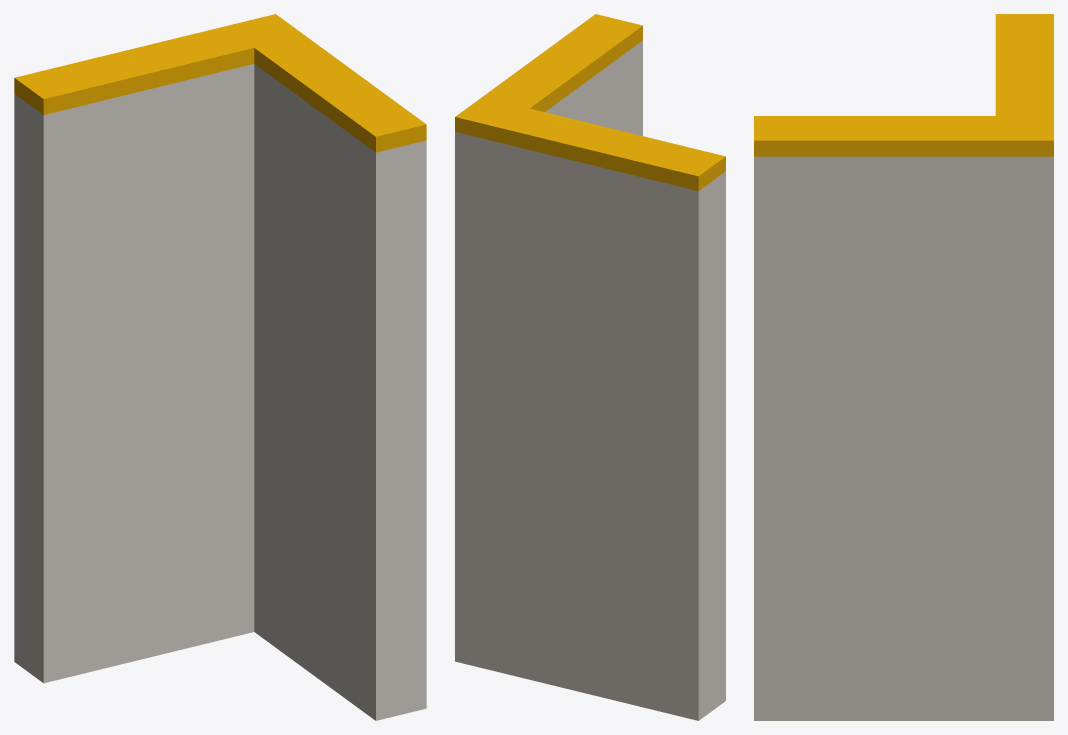
The model's file is raum_wand_ecke.glb.
3 renders of one model, left to right at view 1: azimuth 30°, elevation 25°; view 2: azimuth 150°, elevation 25°; view 3: azimuth 270°, elevation 25°, orthographic. The views are drawn at different scales.
Parts seen in each view (by area): view 1: raum_wand_ecke; view 2: raum_wand_ecke; view 3: raum_wand_ecke.
Boxes of the visible parts, left/top/right/bottom form: raum_wand_ecke: left=14, top=14, right=426, bottom=720; raum_wand_ecke: left=455, top=14, right=725, bottom=720; raum_wand_ecke: left=754, top=14, right=1053, bottom=720.
Size of the model in its own units: 1.03 by 2.2 by 1.03.
